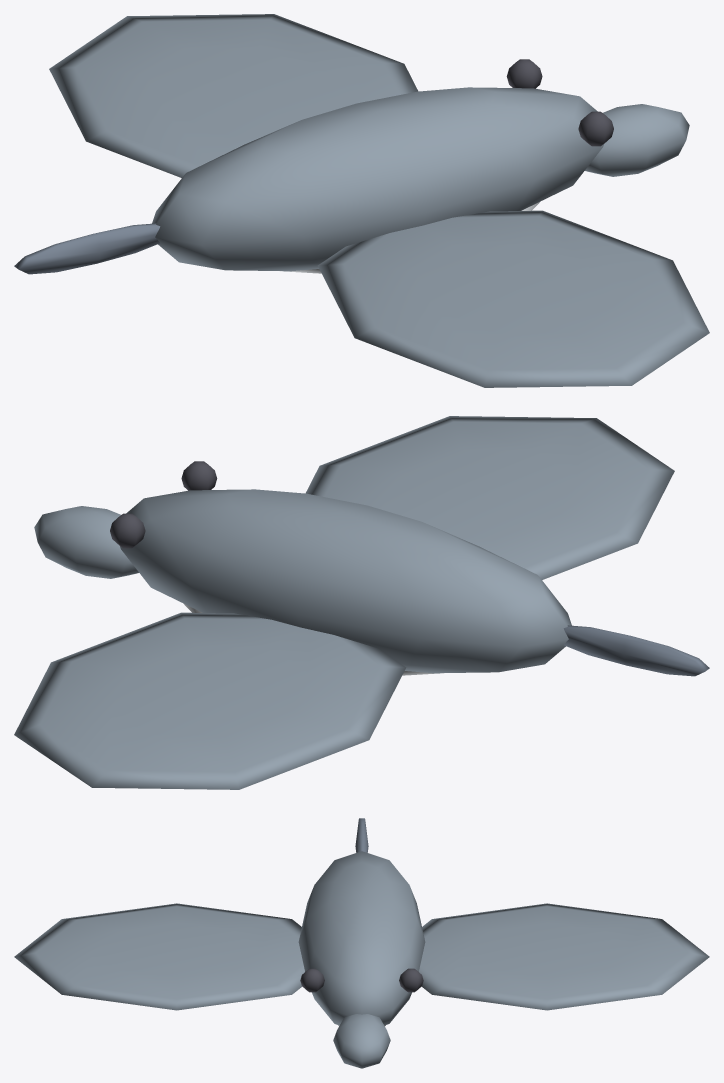
File: ray.glb
3 renders of one model, top to bottom at view 1: azimuth 30°, elevation 25°; view 2: azimuth 150°, elevation 25°; view 3: azimuth 270°, elevation 25°, orthographic. The views are drawn at different scales.
Visible parts, largest first — view 1: body, wing_-1, wing_1, nose, tail, eye_-1, eye_1; view 2: body, wing_1, wing_-1, nose, tail, eye_1, eye_-1; view 3: wing_-1, wing_1, body, nose, eye_-1, eye_1.
Part boxes in pixels (x1,y1,x2,y2): body: (152,87,603,271); wing_-1: (317,210,709,387); wing_1: (49,14,418,177); nose: (585,104,689,176); tail: (14,223,160,274); eye_-1: (578,111,613,146); eye_1: (506,59,542,88); body: (120,489,571,673); wing_1: (14,612,406,789); wing_-1: (305,416,674,579); nose: (34,506,138,578); tail: (563,625,709,676); eye_1: (110,513,145,548); eye_-1: (181,461,217,490); wing_-1: (14,903,304,1010); wing_1: (419,903,709,1010); body: (298,851,425,1025); nose: (333,1014,390,1068); eye_-1: (300,968,324,992); eye_1: (399,968,423,992).
Size of the model in its own units: 5.66 by 1.2 by 7.36.
